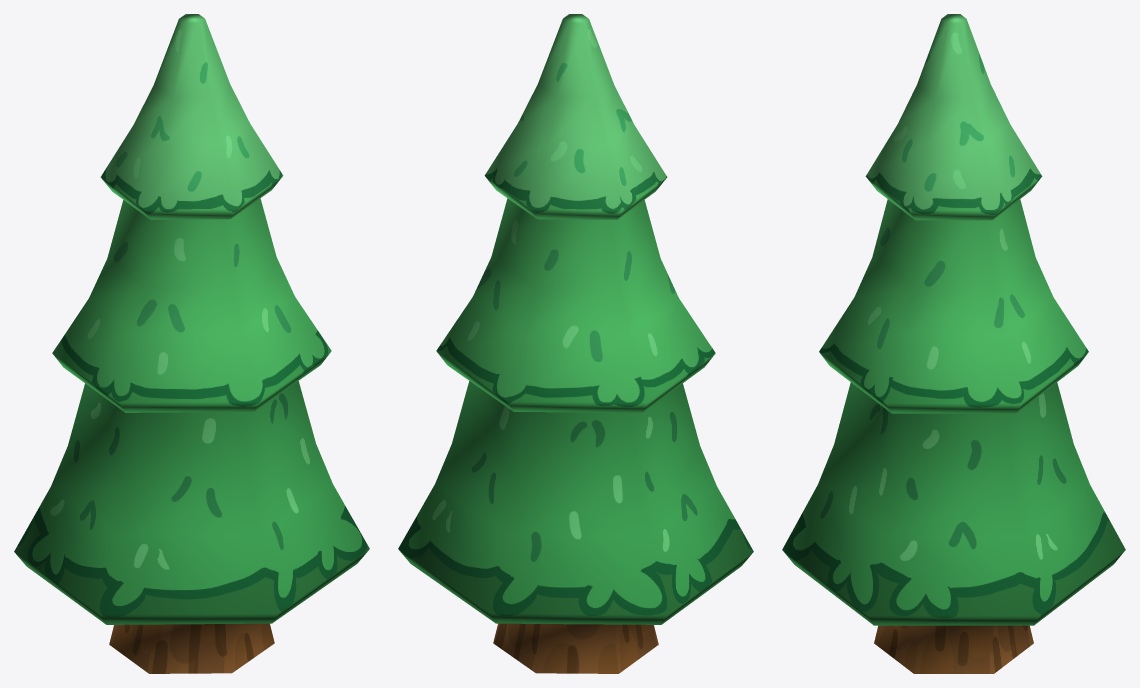
Rendered from Decoration_LargeTree002_Model.fbx.
The picture shows the model from 3 angles, left to right: view 1: azimuth 30°, elevation 25°; view 2: azimuth 150°, elevation 25°; view 3: azimuth 270°, elevation 25°; orthographic projection.
Visible parts, largest first — view 1: Tree Large; view 2: Tree Large; view 3: Tree Large.
Boxes of the visible parts, bbox=[...] form: Tree Large: bbox=[14, 14, 369, 673]; Tree Large: bbox=[398, 14, 753, 673]; Tree Large: bbox=[782, 14, 1125, 673].
Size of the model in its own units: 85.29 by 189 by 94.19.
